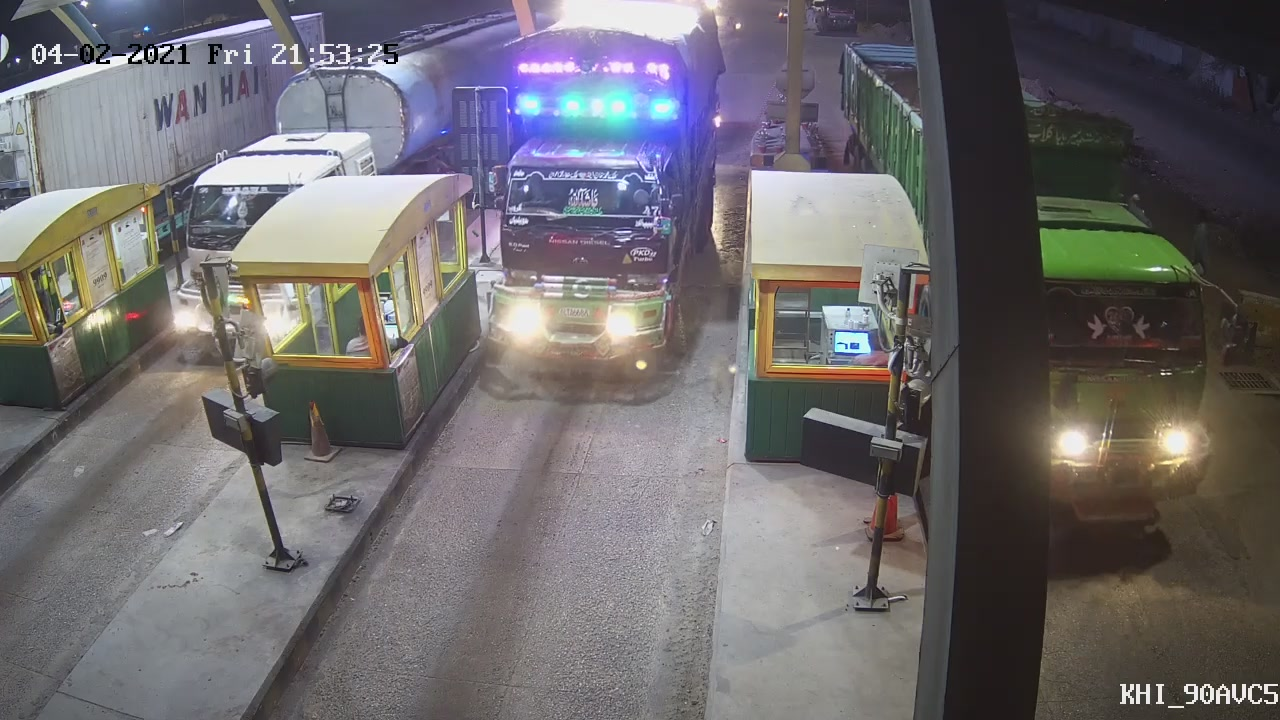F5: (472, 1, 724, 381)
